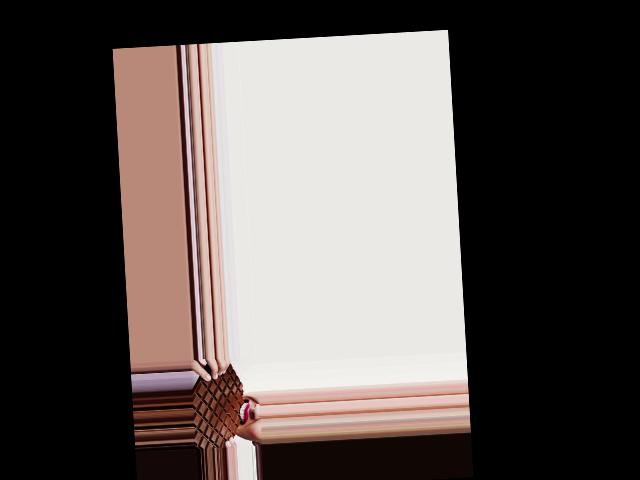chocolate: (190, 356, 248, 448)
